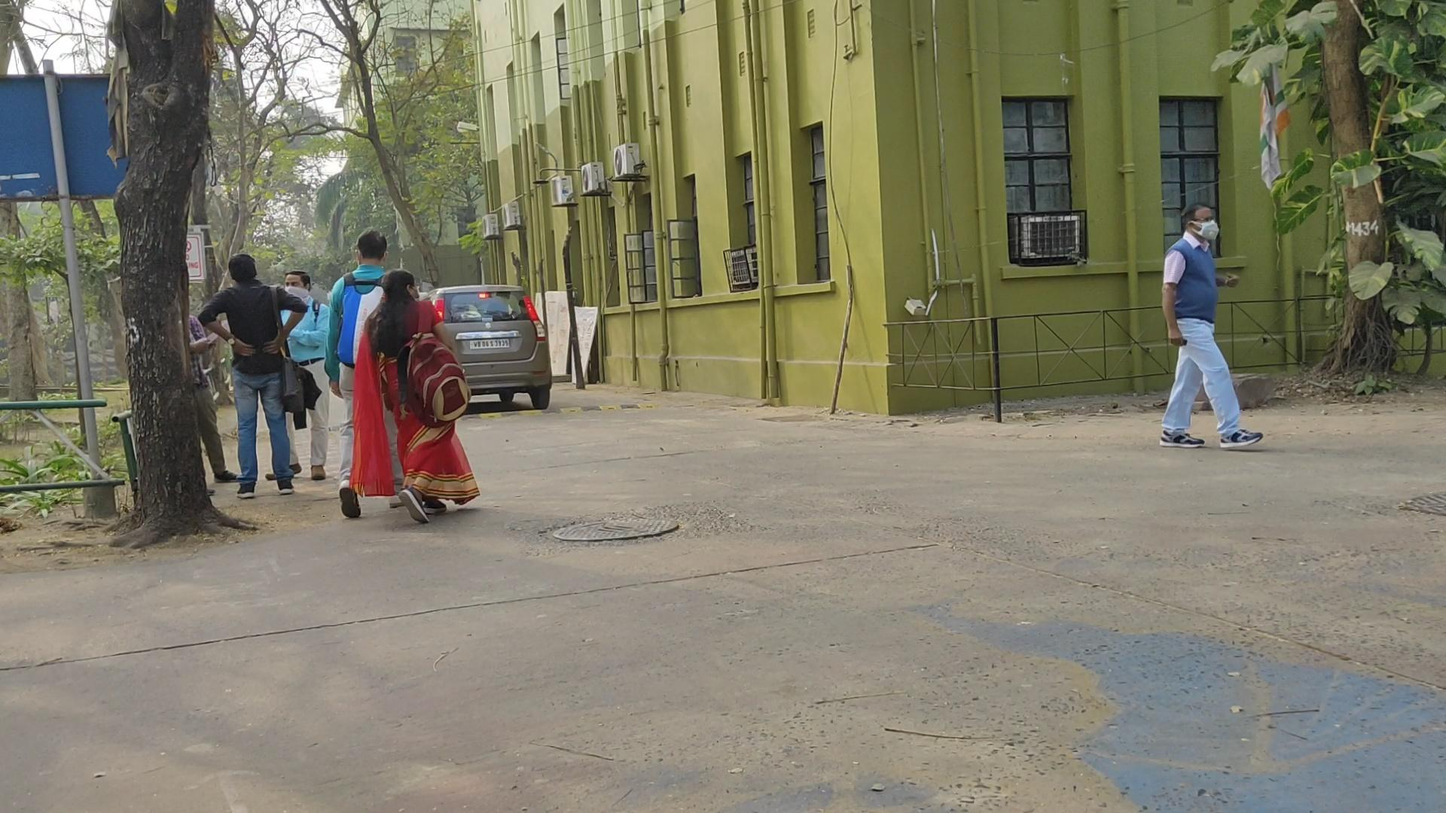car: (424, 285, 554, 411)
